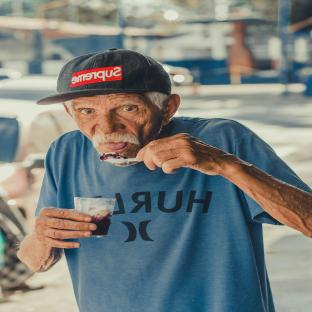Human: (18, 49, 312, 312)
